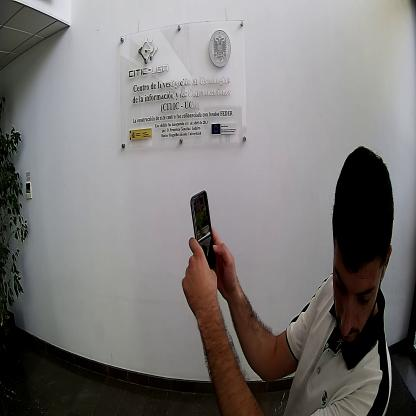smartphone: (190, 189, 218, 276)
